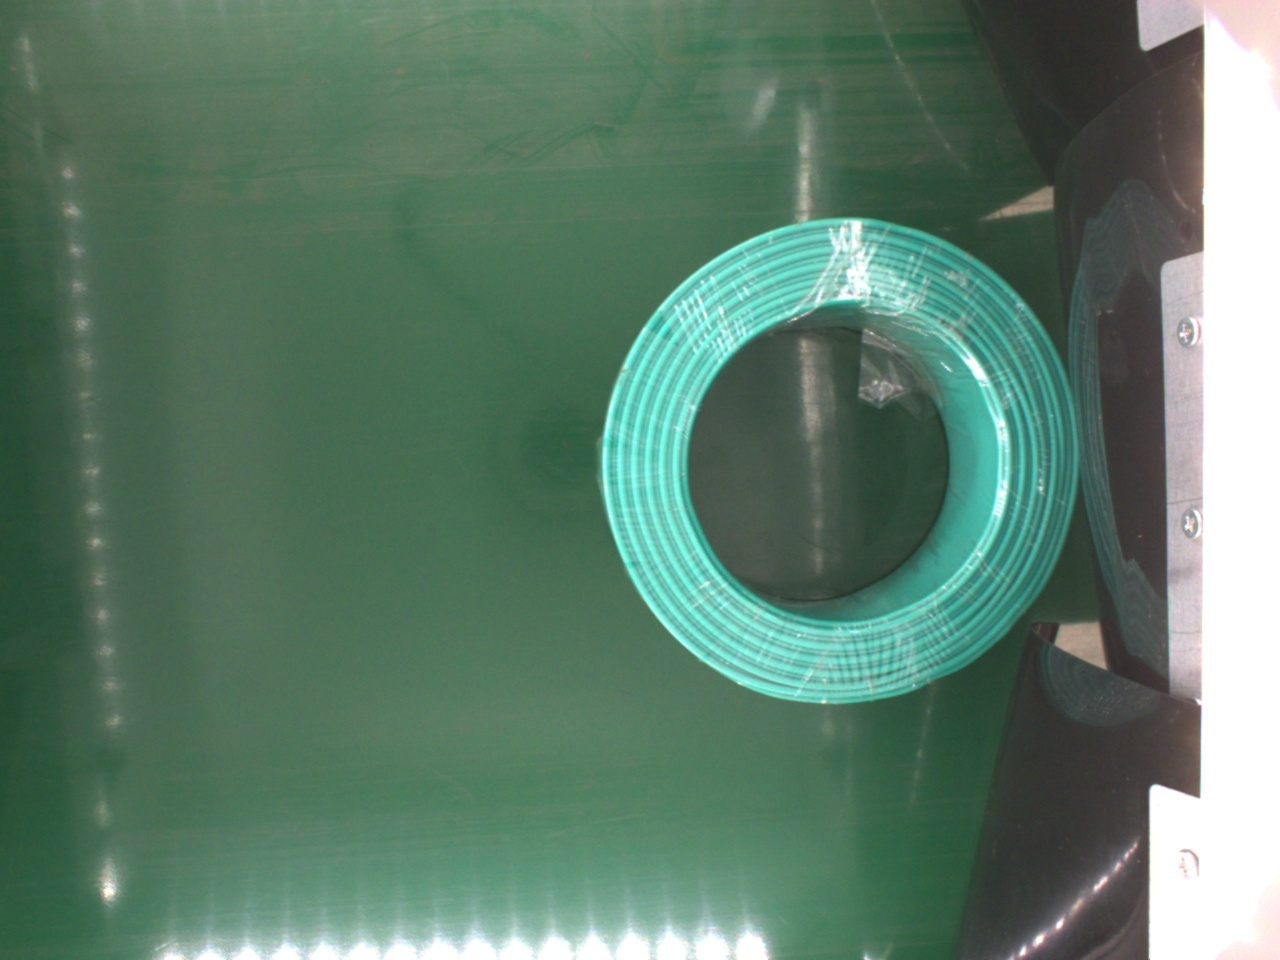green: (599, 218, 1083, 707)
